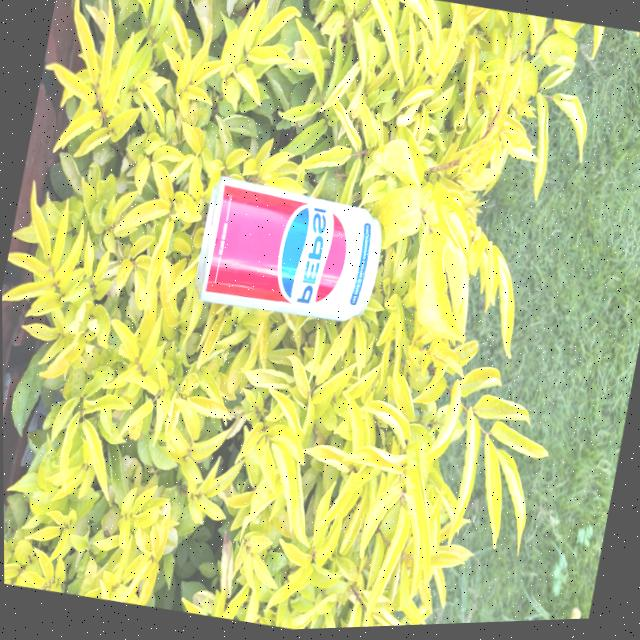Pepsi Retro: (191, 176, 391, 340)
